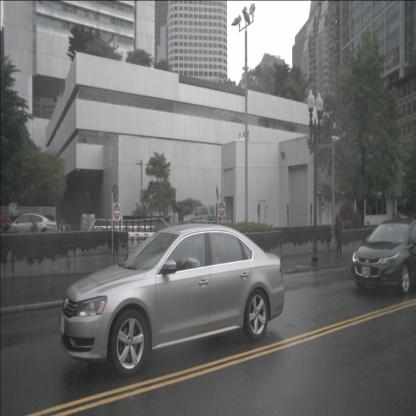human-pedestrian-adult: (335, 210, 343, 257)
vehicle-car: (58, 221, 285, 378), (350, 218, 416, 296), (0, 213, 57, 245), (183, 206, 221, 230)
